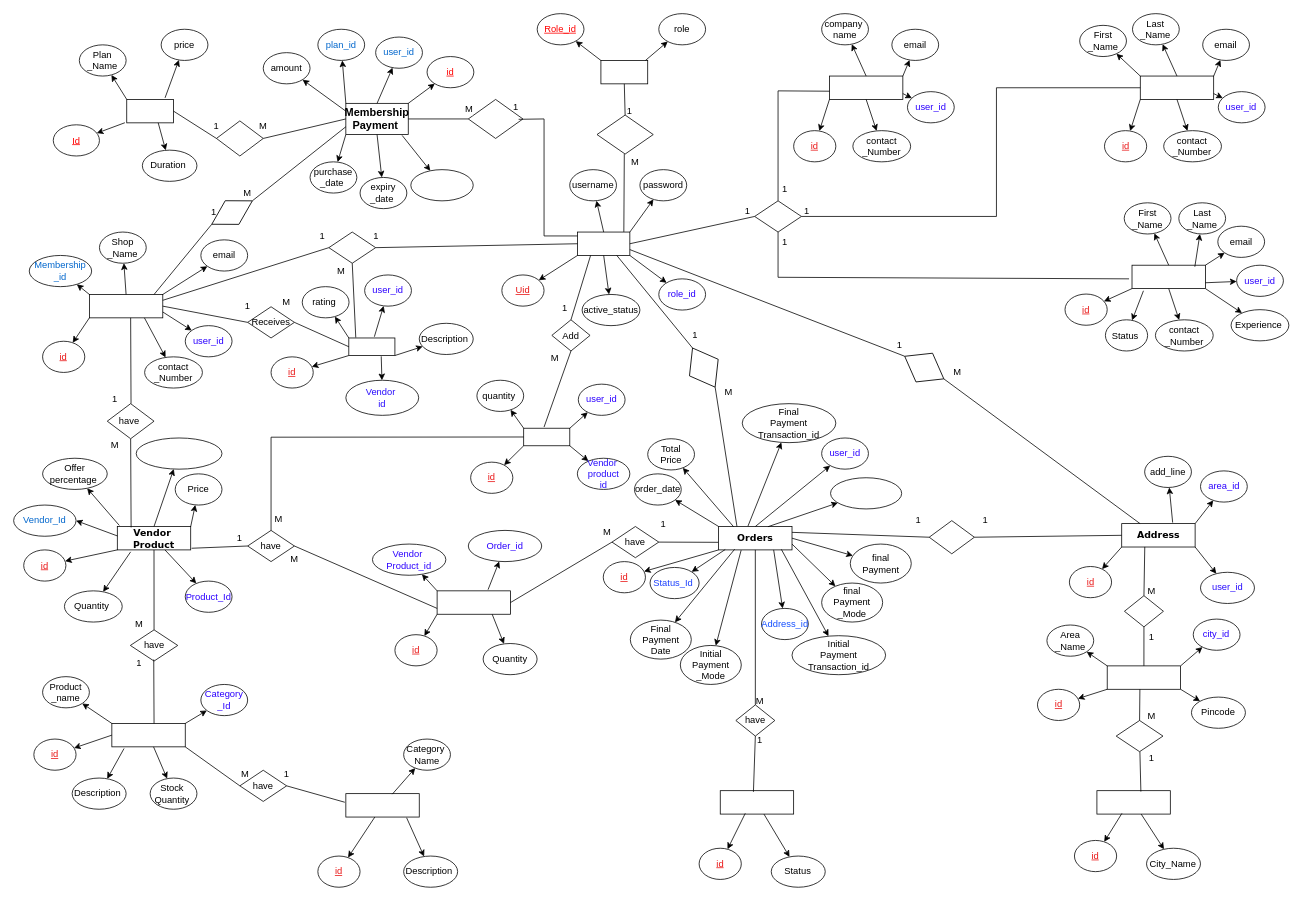
Some shapes in this 1303 by 901 pixel diagram are drawn without their labels. The box of each missing label's shape, as (x1, y1, x2, y2) in pixels:
Areas: (1106, 665, 1181, 689)
Buy: (216, 120, 263, 156)
Cart: (523, 427, 570, 446)
Category: (345, 793, 419, 817)
Cities: (1096, 790, 1170, 814)
Construction _material_Vendor: (89, 294, 163, 318)
Construction Company's: (829, 75, 903, 99)
Individual Customer: (1140, 75, 1214, 99)
Initial_payment: (830, 477, 902, 509)
Labours: (1131, 264, 1205, 289)
Makes: (204, 188, 259, 236)
Manages: (468, 99, 523, 138)
Offer ValidDate: (135, 437, 222, 469)
Order Item: (436, 590, 511, 614)
Order_Status: (719, 790, 794, 814)
Places: (677, 339, 730, 396)
Plans: (126, 99, 174, 123)
Product: (111, 723, 185, 747)
review: (348, 337, 395, 356)
Roles: (600, 60, 648, 84)
transaction _id: (410, 169, 473, 201)
Users: (577, 231, 630, 255)
